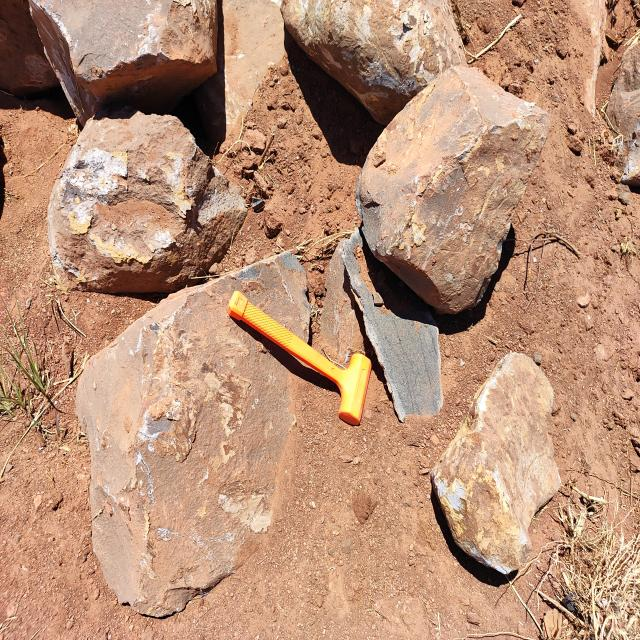Orange_hammer: (226, 288, 372, 426)
